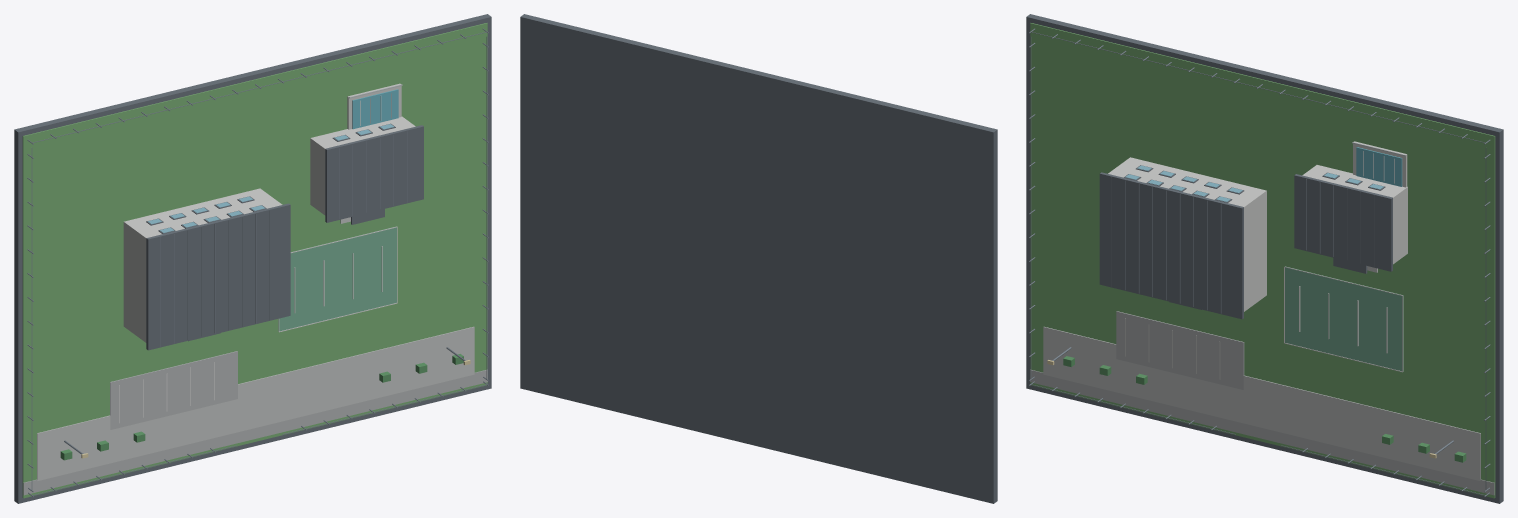
The model's file is medical_centre_level_2.glb.
The picture shows the model from 3 angles, left to right: view 1: azimuth 30°, elevation 25°; view 2: azimuth 150°, elevation 25°; view 3: azimuth 330°, elevation 25°; orthographic projection.
Parts seen in each view (by area): view 1: land_1, forecourt_2, dark_roof_5, base_slab_0, rehab_field_85, dark_roof_62, parking_94, access_road_3, clinic_walls_4, clinic_walls_61, hydro_pool_101, fence_rail_226 (+2 smaller); view 2: base_slab_0; view 3: land_1, forecourt_2, dark_roof_5, base_slab_0, rehab_field_85, dark_roof_62, parking_94, access_road_3, clinic_walls_4, clinic_walls_61, hydro_pool_101, fence_rail_210 (+2 smaller).
Boxes of the visible parts, box(x1,y1,x2,y2) form: land_1: box(22, 23, 487, 498); forecourt_2: box(37, 326, 474, 480); dark_roof_5: box(146, 203, 290, 350); base_slab_0: box(14, 14, 491, 503); rehab_field_85: box(278, 226, 396, 331); dark_roof_62: box(325, 125, 423, 222); parking_94: box(110, 351, 237, 429); access_road_3: box(23, 369, 487, 495); clinic_walls_4: box(123, 188, 282, 342); clinic_walls_61: box(310, 116, 415, 215); hydro_pool_101: box(352, 89, 398, 129); fence_rail_226: box(486, 37, 487, 378); base_slab_0: box(520, 14, 997, 503); land_1: box(1030, 23, 1495, 498); forecourt_2: box(1043, 326, 1480, 480); dark_roof_5: box(1099, 172, 1243, 319); base_slab_0: box(1026, 14, 1503, 503); rehab_field_85: box(1285, 266, 1403, 371); dark_roof_62: box(1294, 174, 1392, 271); parking_94: box(1116, 311, 1244, 389); access_road_3: box(1030, 369, 1494, 495); clinic_walls_4: box(1108, 157, 1266, 311); clinic_walls_61: box(1302, 165, 1407, 264); hydro_pool_101: box(1356, 147, 1402, 186); fence_rail_210: box(1030, 37, 1031, 378).
Size of the model in its own units: 52 by 39 by 6.16.
